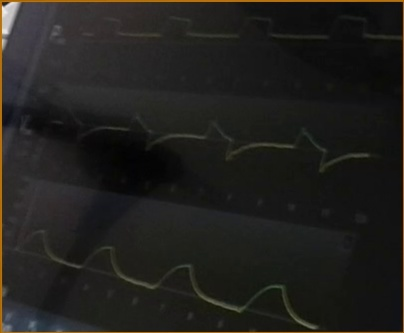Normal Flow: (54, 99, 368, 176)
Normal Volume: (12, 227, 320, 330)
